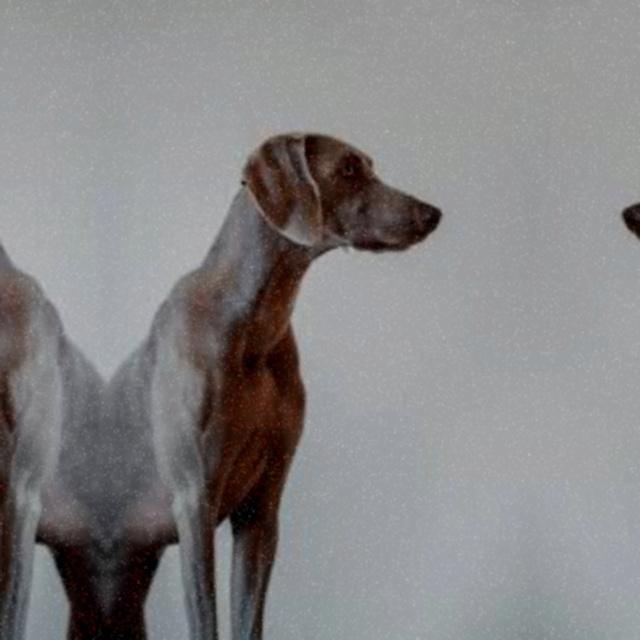dog: (190, 90, 464, 300), (602, 89, 640, 300), (0, 89, 25, 300)
